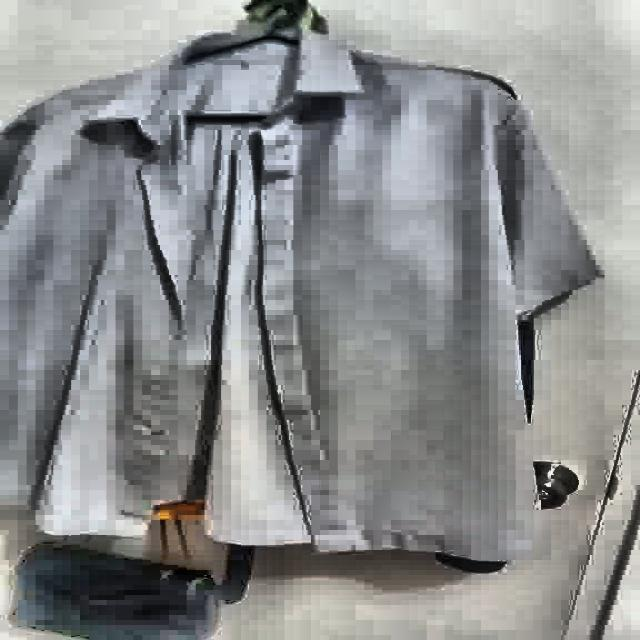clothes: (0, 18, 595, 571)
